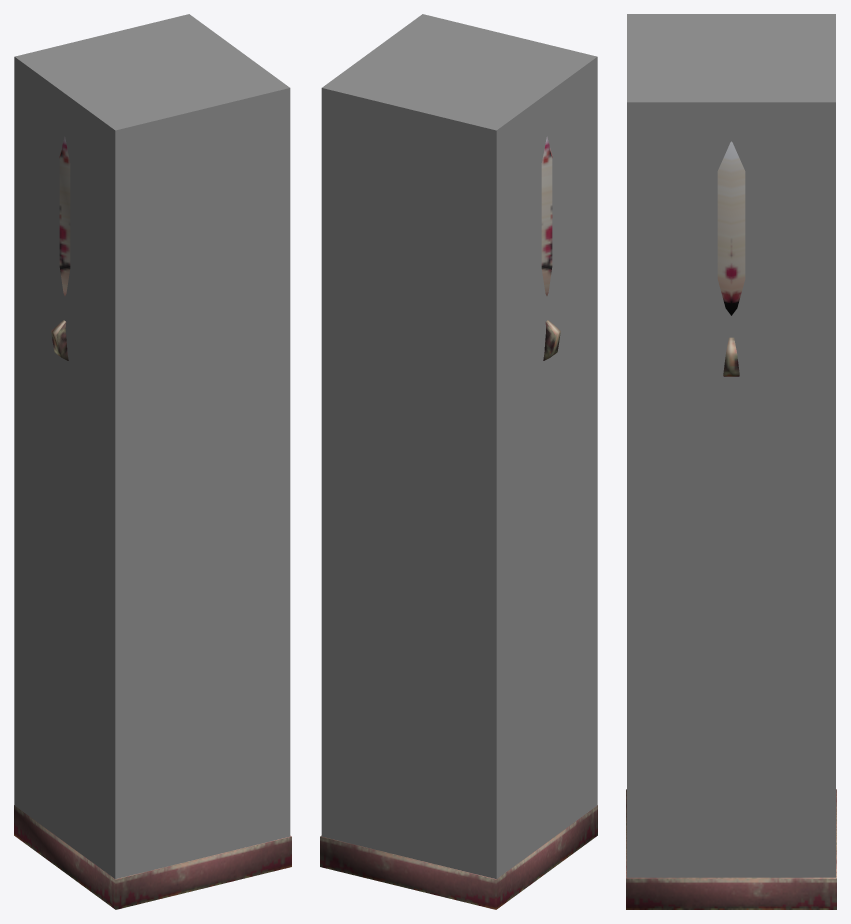
Rendered from Scene_Build_HuanYinFang_DengLong_3.FBX.
3 views of the same model, side by side, from view 1: azimuth 30°, elevation 25°; view 2: azimuth 150°, elevation 25°; view 3: azimuth 270°, elevation 25° (orthographic). The views are drawn at different scales.
Parts seen in each view (by area): view 1: Scene_Build_HuanYinFang_DengLong_3_Xzm, Scene_Build_HuanYinFang_DengLong_3; view 2: Scene_Build_HuanYinFang_DengLong_3_Xzm, Scene_Build_HuanYinFang_DengLong_3; view 3: Scene_Build_HuanYinFang_DengLong_3_Xzm, Scene_Build_HuanYinFang_DengLong_3.
Part boxes in pixels (x1,y1,x2,y2): Scene_Build_HuanYinFang_DengLong_3_Xzm: (14,14,290,878); Scene_Build_HuanYinFang_DengLong_3: (14,136,291,909); Scene_Build_HuanYinFang_DengLong_3_Xzm: (321,14,597,878); Scene_Build_HuanYinFang_DengLong_3: (320,136,597,909); Scene_Build_HuanYinFang_DengLong_3_Xzm: (627,14,835,877); Scene_Build_HuanYinFang_DengLong_3: (626,141,836,909).
Size of the model in its own units: 90.58 by 342 by 80.94.
